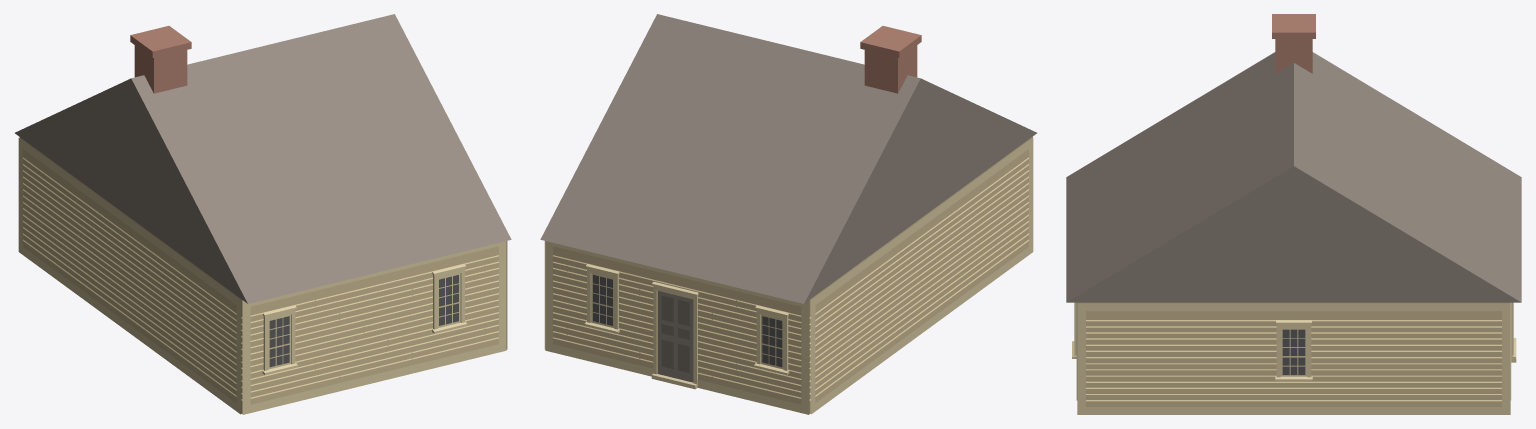
File: recon_1835_blk_randolph_wells_d5_03__inferred_1835.glb
The picture shows the model from 3 angles, left to right: view 1: azimuth 30°, elevation 25°; view 2: azimuth 150°, elevation 25°; view 3: azimuth 270°, elevation 25°; orthographic projection. The views are drawn at different scales.
Parts seen in each view (by area): view 1: recon_1835_blk_randolph_wells_d5_03__inferred_1835; view 2: recon_1835_blk_randolph_wells_d5_03__inferred_1835; view 3: recon_1835_blk_randolph_wells_d5_03__inferred_1835.
Boxes of the visible parts, bbox=[...] form: recon_1835_blk_randolph_wells_d5_03__inferred_1835: bbox=[15, 14, 511, 414]; recon_1835_blk_randolph_wells_d5_03__inferred_1835: bbox=[540, 14, 1036, 414]; recon_1835_blk_randolph_wells_d5_03__inferred_1835: bbox=[1066, 14, 1521, 414].
Bounding box in the file's own units: 6.8 × 6.91 × 10.19.
